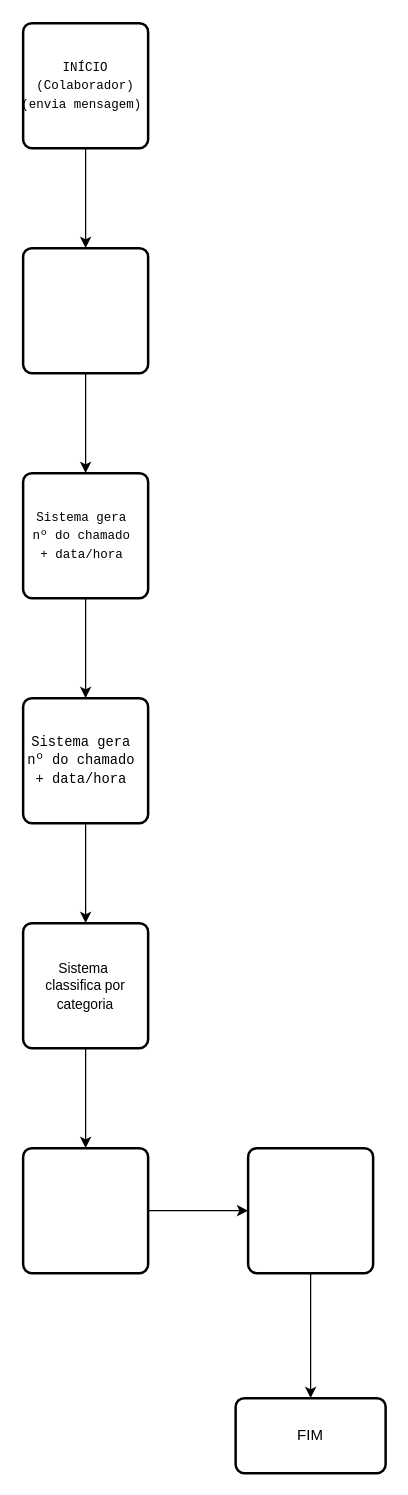
Image size: 408x1495. Some labels were removed from this diagram. Here are the shapes that lost their labels. From the top down, the centre of each, then its label:
(x=85, y=310): Sistema recebe a mensagem
(x=85, y=1210): Direciona para fila correta
(x=310, y=1210): Colaborador recebe confirmação
